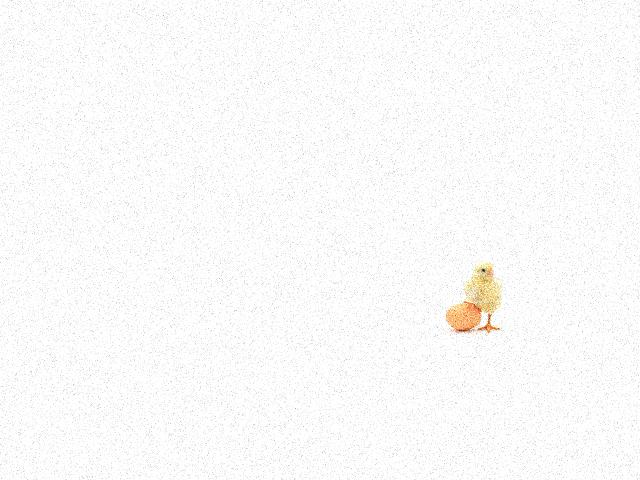egg: (445, 302, 482, 330)
